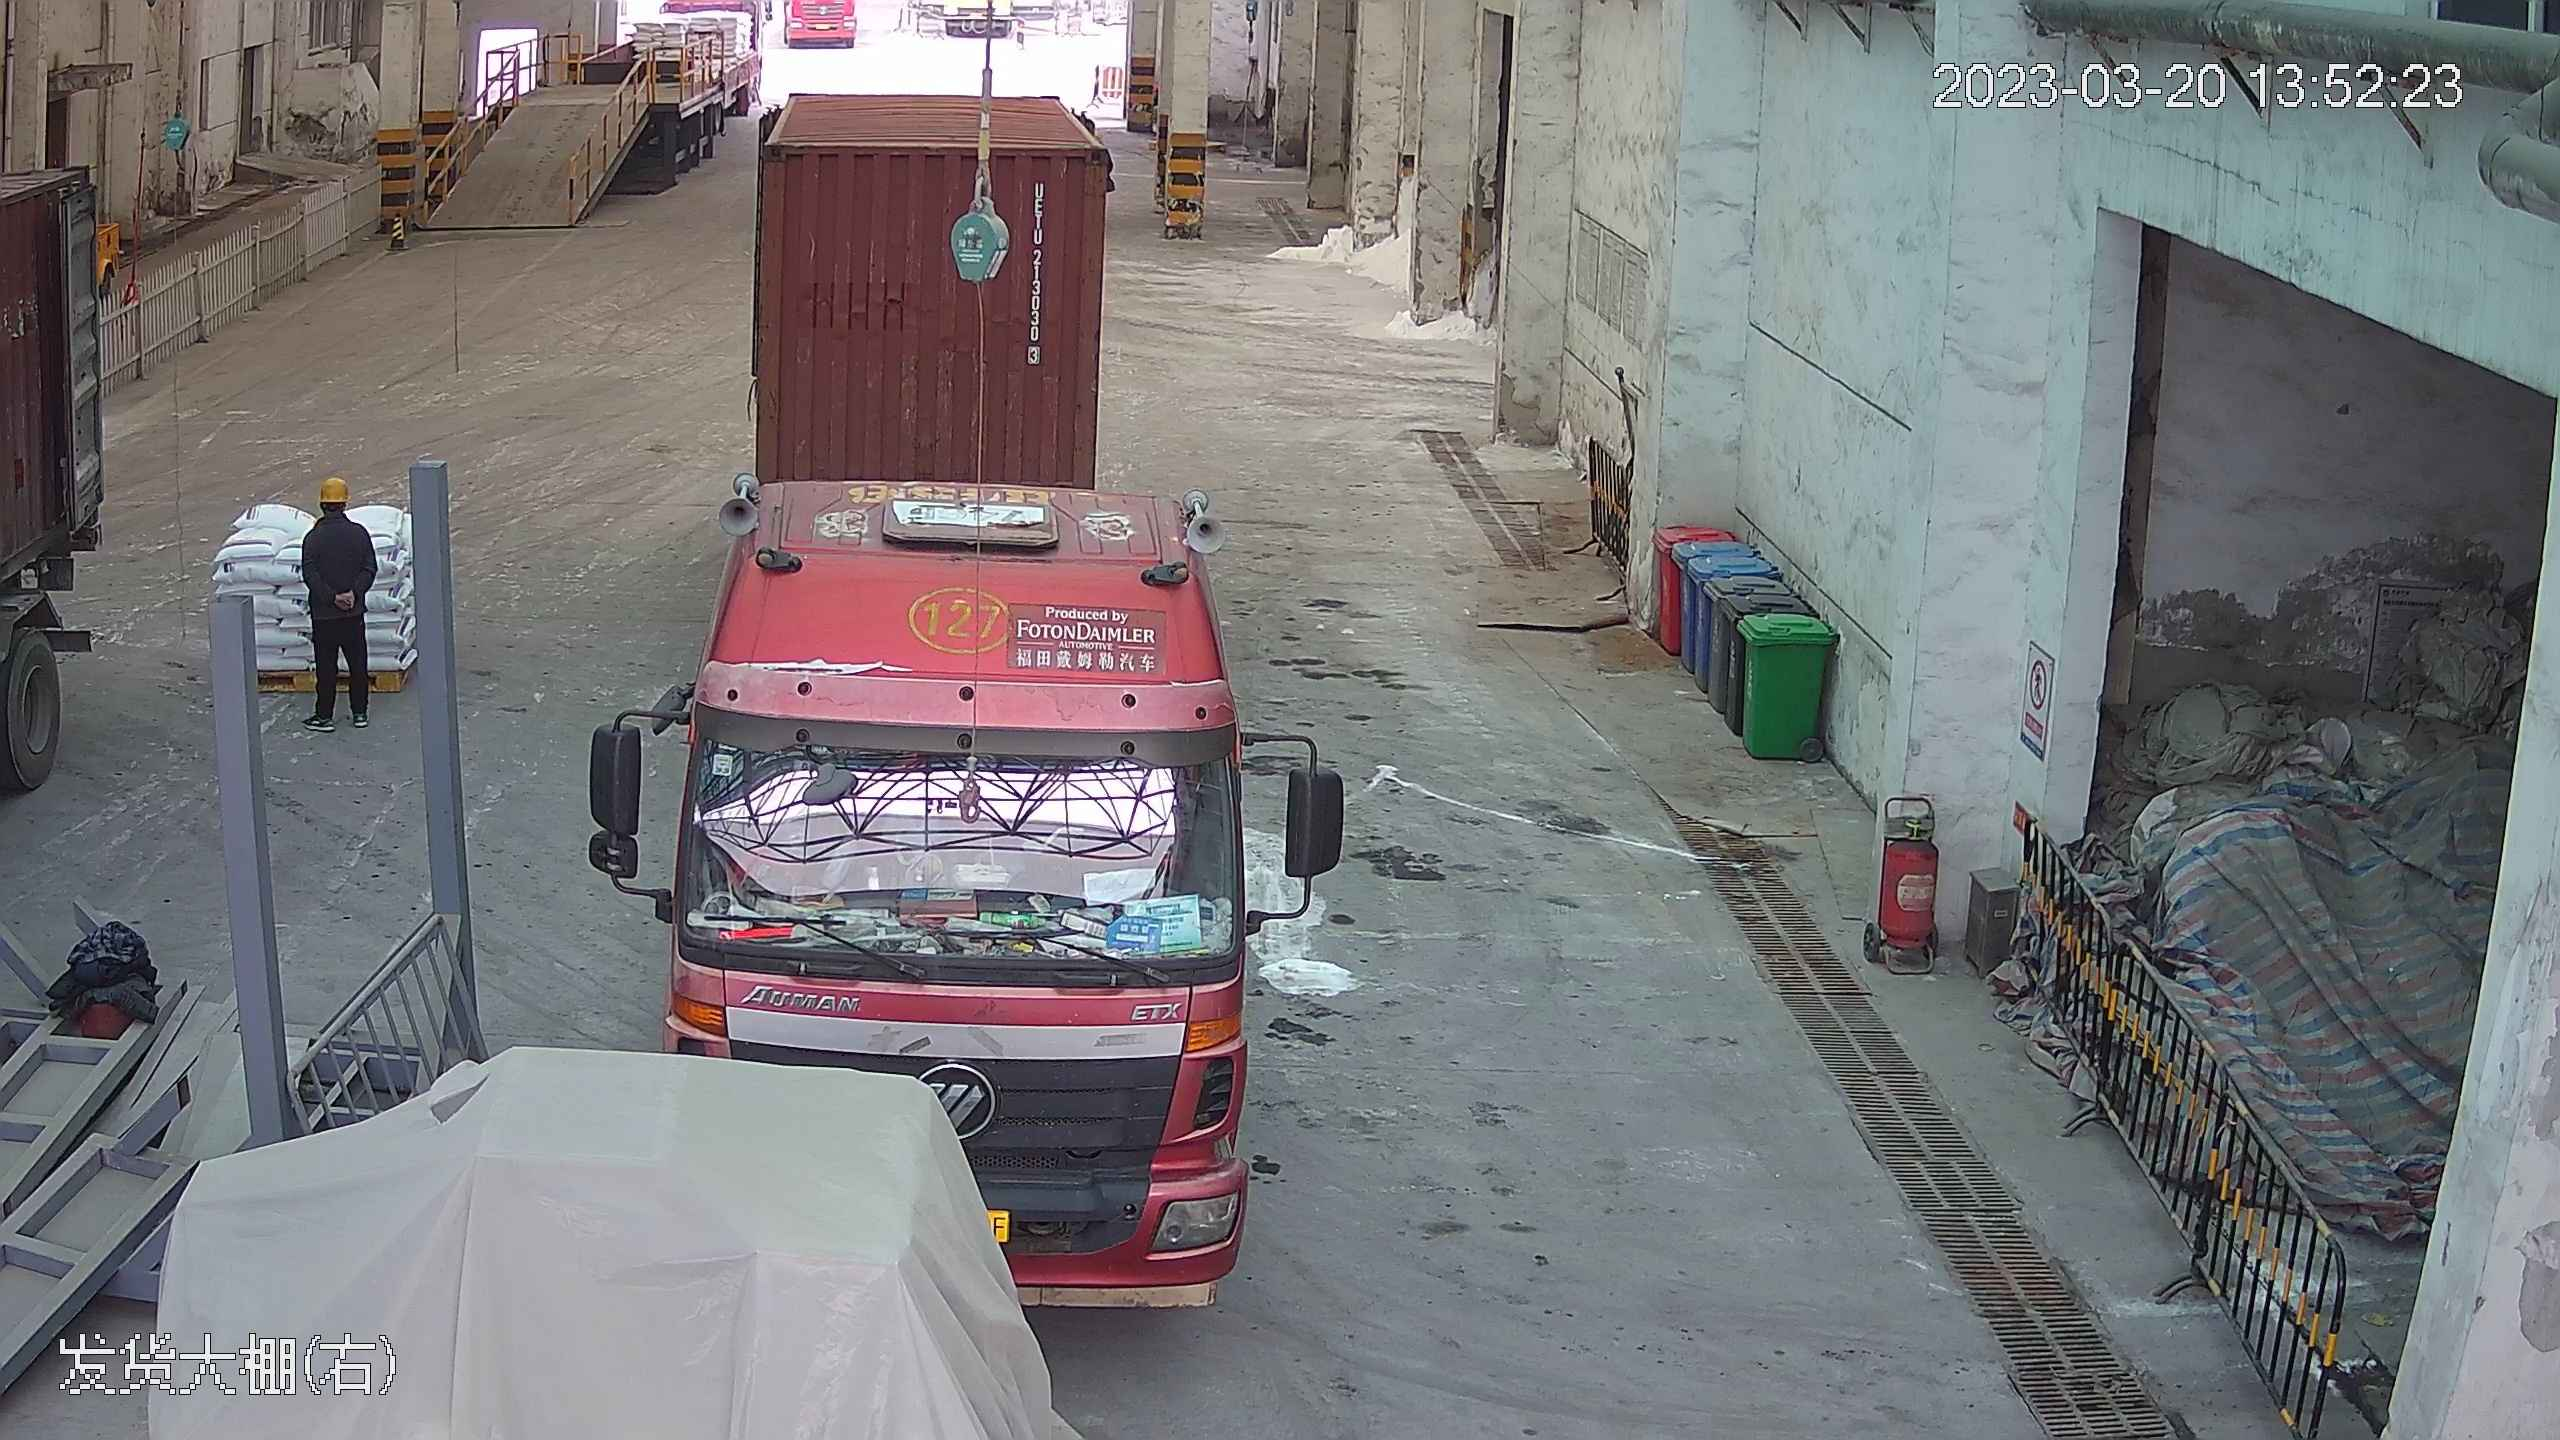head: (304, 474, 369, 550)
helmet: (317, 474, 349, 502)
people: (297, 470, 382, 730)
truck: (637, 33, 1274, 1303)
